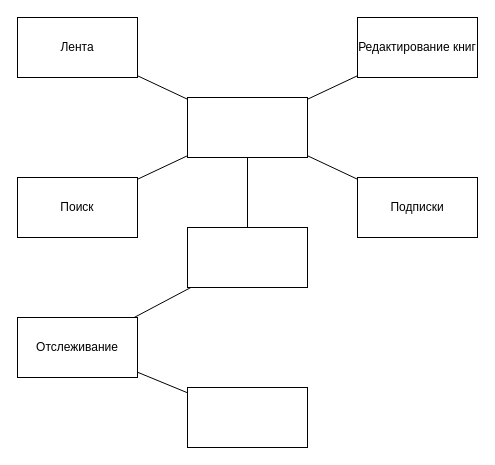
Some shapes in this 495 by 465 pixel diagram are drawn without their labels. The centre of each missing label's shape, as x and y in pixels:
"БД" goes at point (247, 127).
"Уведомления" goes at point (247, 417).
"Чтение" goes at point (247, 257).
